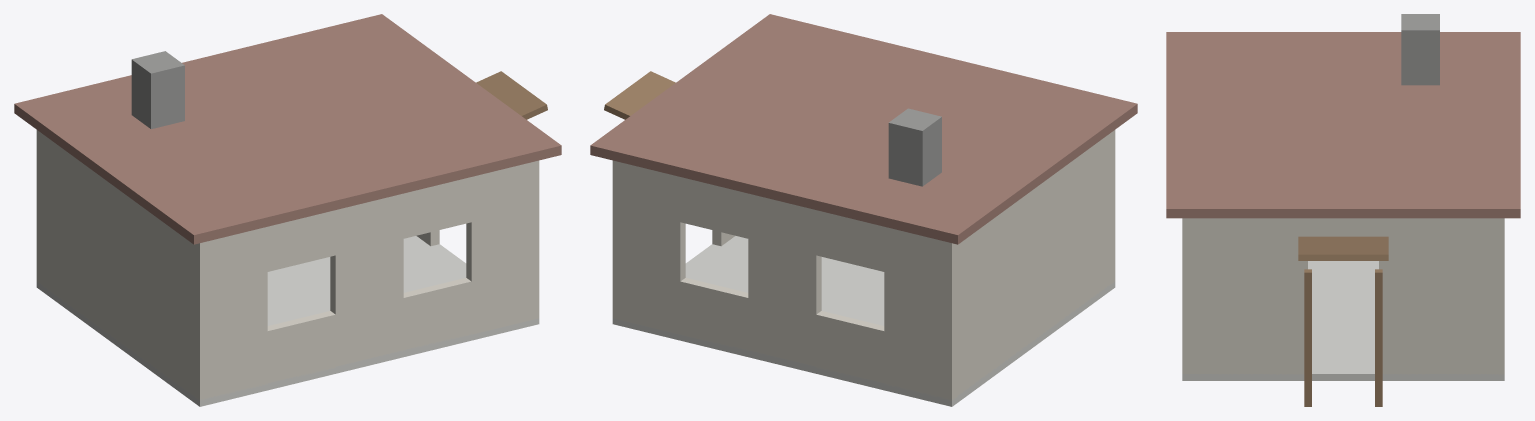
Rendered from house_small.glb.
3 views of the same model, side by side, from view 1: azimuth 30°, elevation 25°; view 2: azimuth 150°, elevation 25°; view 3: azimuth 270°, elevation 25° (orthographic).
Parts seen in each view (by area): view 1: house_small; view 2: house_small; view 3: house_small.
Boxes of the visible parts, x1,y1,x2,y2 form: house_small: (14, 14, 561, 406); house_small: (590, 14, 1137, 406); house_small: (1166, 14, 1520, 406).
Bounding box in the file's own units: 7.44 × 4 × 5.5.
